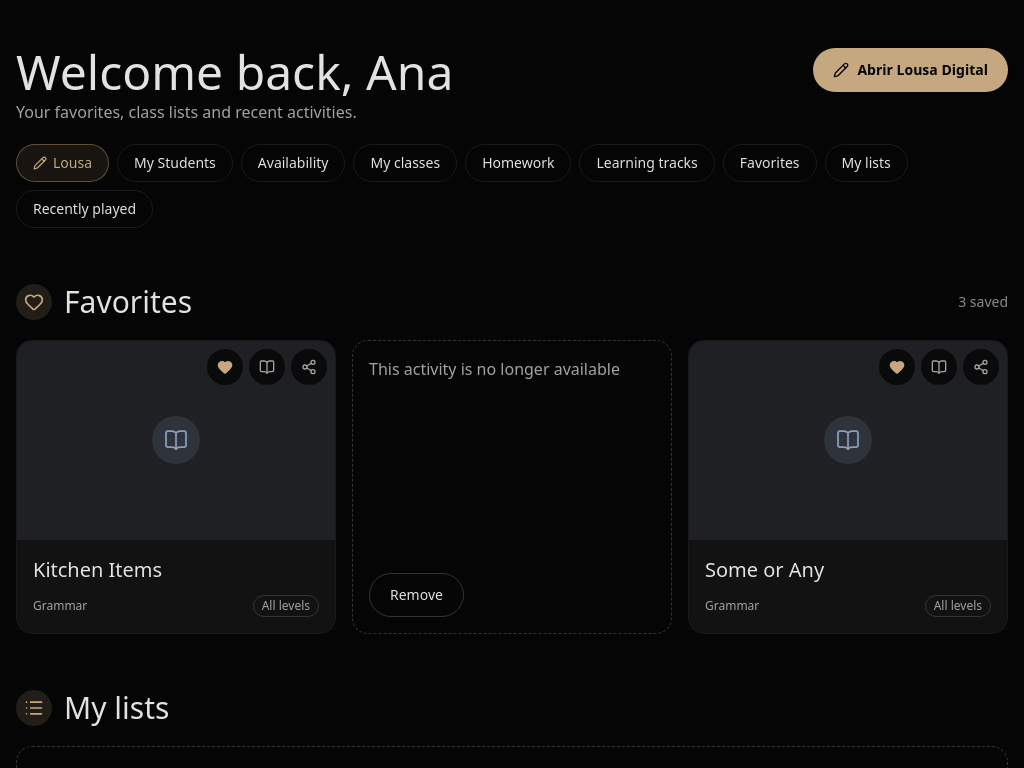
Test case: DashboardView › lists favorites newest first, and flags those no longer published
Expected: the number of list items is 3, [16, 340, 336, 634]; [352, 340, 672, 634]; [688, 340, 1008, 634]
Expected: the list item "Kitchen Items Grammar All levels" is shown, [16, 340, 336, 634]
Click the button "Remove": (416, 595) [369, 573, 464, 617]
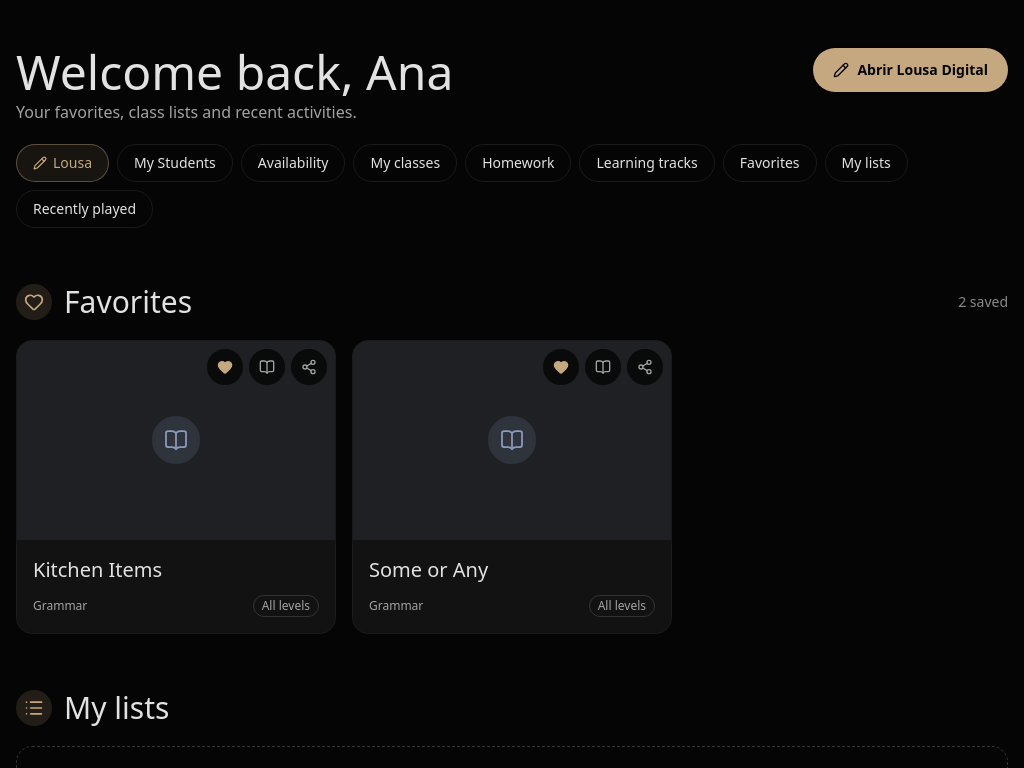
Expected: the number of list items is 2, [16, 340, 336, 634]; [352, 340, 672, 634]
